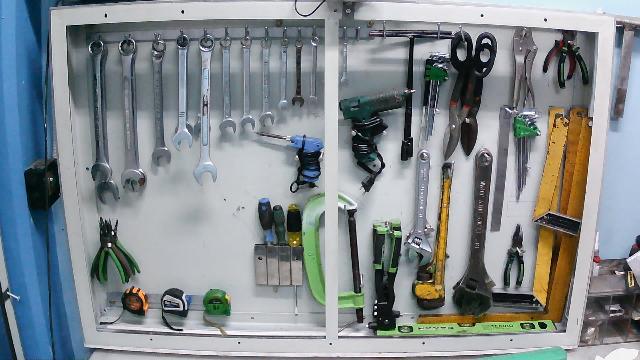meteran: (197, 284, 240, 337)
